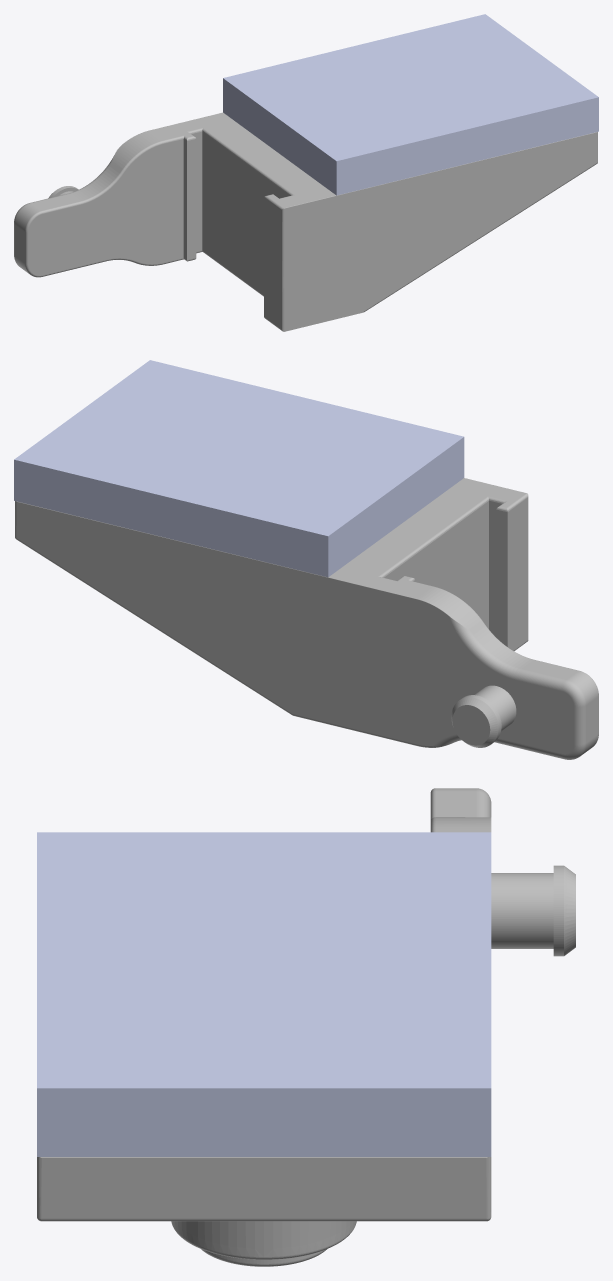
The model's file is GripperLeft.dae.
3 views of the same model, one above another, from view 1: azimuth 30°, elevation 25°; view 2: azimuth 150°, elevation 25°; view 3: azimuth 270°, elevation 25° (orthographic). The views are drawn at different scales.
Parts seen in each view (by area): view 1: node3, node1; view 2: node3, node1; view 3: node1, node3.
Part boxes in pixels (bbox=[...]): node3: bbox=[14, 112, 597, 331]; node1: bbox=[223, 14, 598, 195]; node3: bbox=[15, 478, 598, 759]; node1: bbox=[14, 360, 464, 577]; node1: bbox=[37, 832, 491, 1156]; node3: bbox=[37, 788, 575, 1266].
Size of the model in its own units: 0.0459 by 0.0226 by 0.0146.
